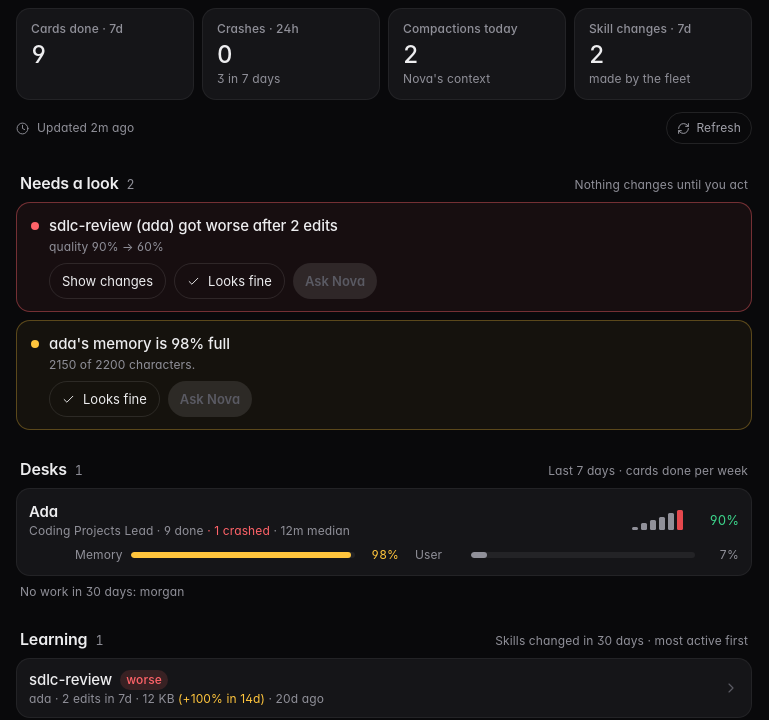
Test: a skill lists its episode and changes; diffs load when opened
The image size is (769, 720).
Click the button "sdlc-review" at coordinates (71, 680), box [17,659,751,717]
(page scrolled)
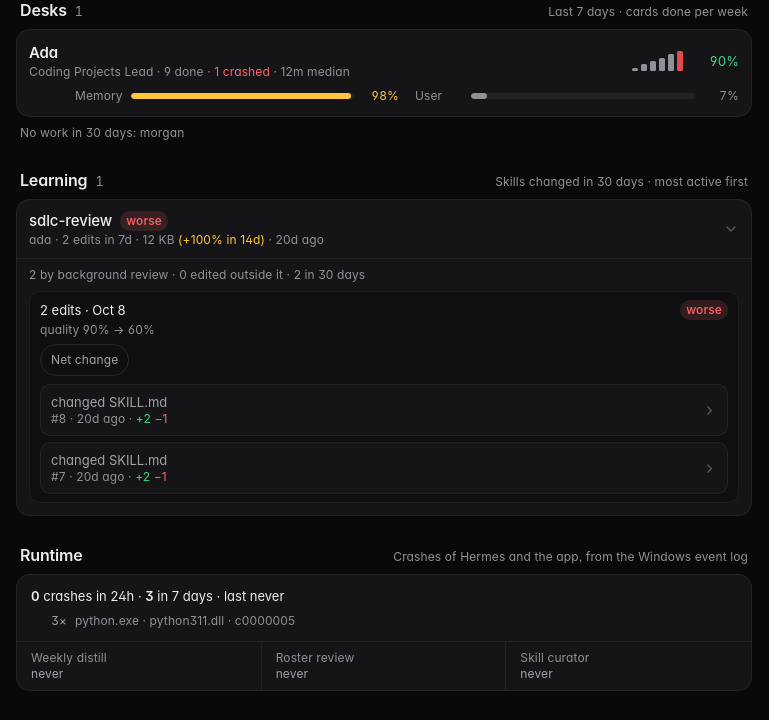
Expected: the text "(+100% in 14d)" is shown, [175,232,265,247]
Expected: the text "2 by background review · 0 edited outside it · 2 in 30 days" is shown, [29,267,365,282]
Click the button "Net change" at coordinates (85, 360), box [40,344,129,376]
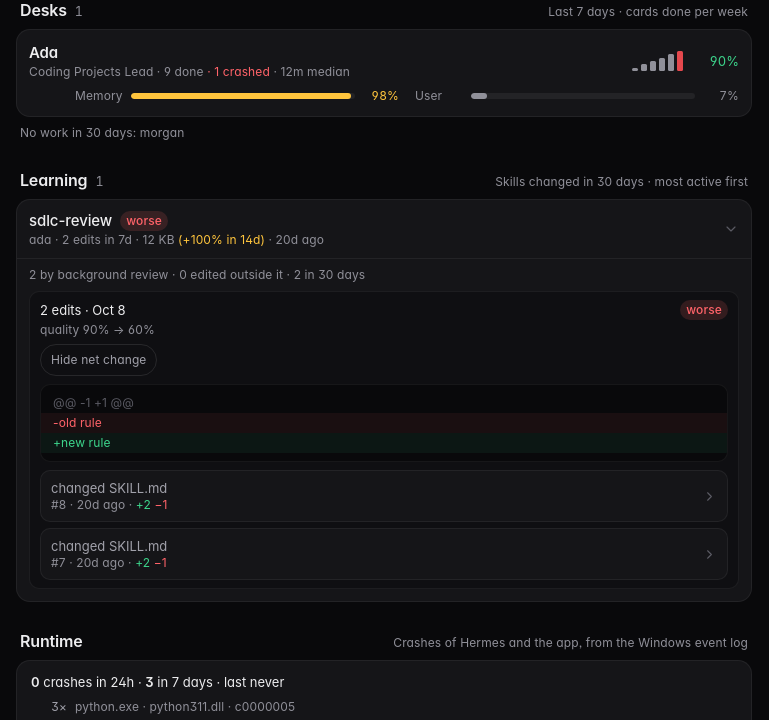
Expected: the text "+new rule" is shown, [41,433,727,453]
